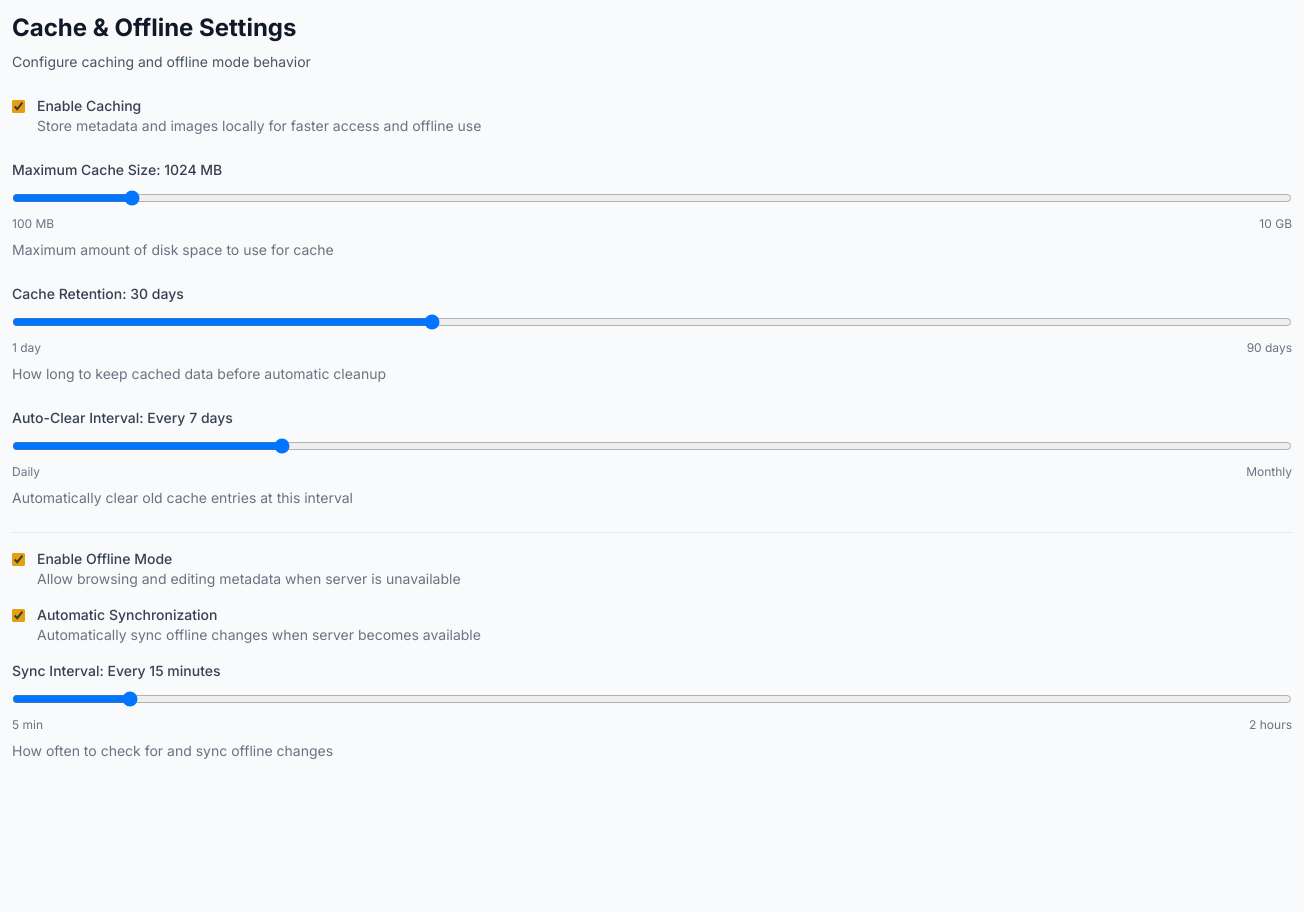
it: CacheSettings › should toggle auto sync
Click the checkbox labelled "Automatic Synchronization". click: (18, 616)
box: [12,609,25,622]
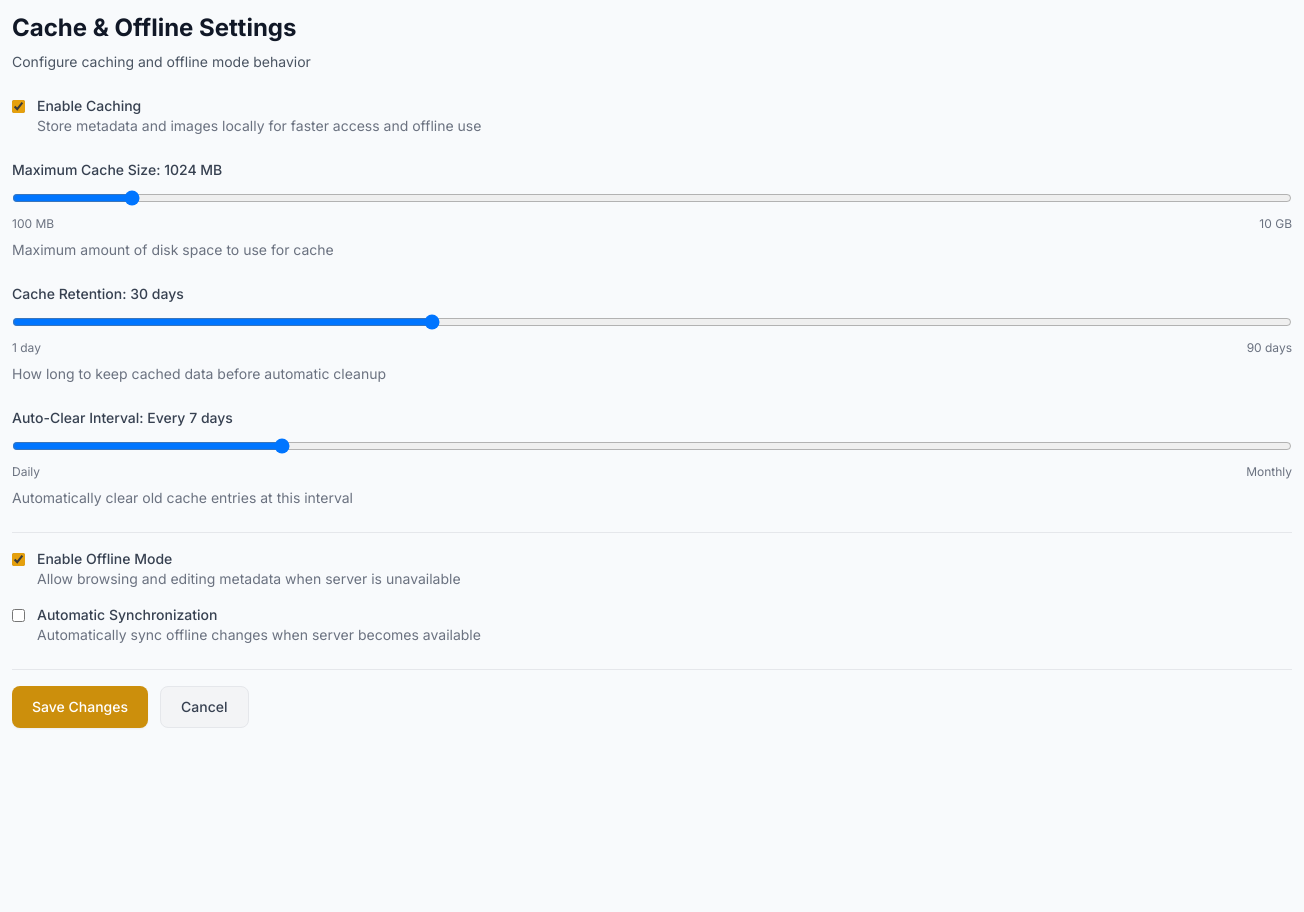
Check: the checkbox labelled "Automatic Synchronization" is not checked, box [12,609,25,622]
Check: the text "Save Changes" is shown, box [32,697,128,717]
